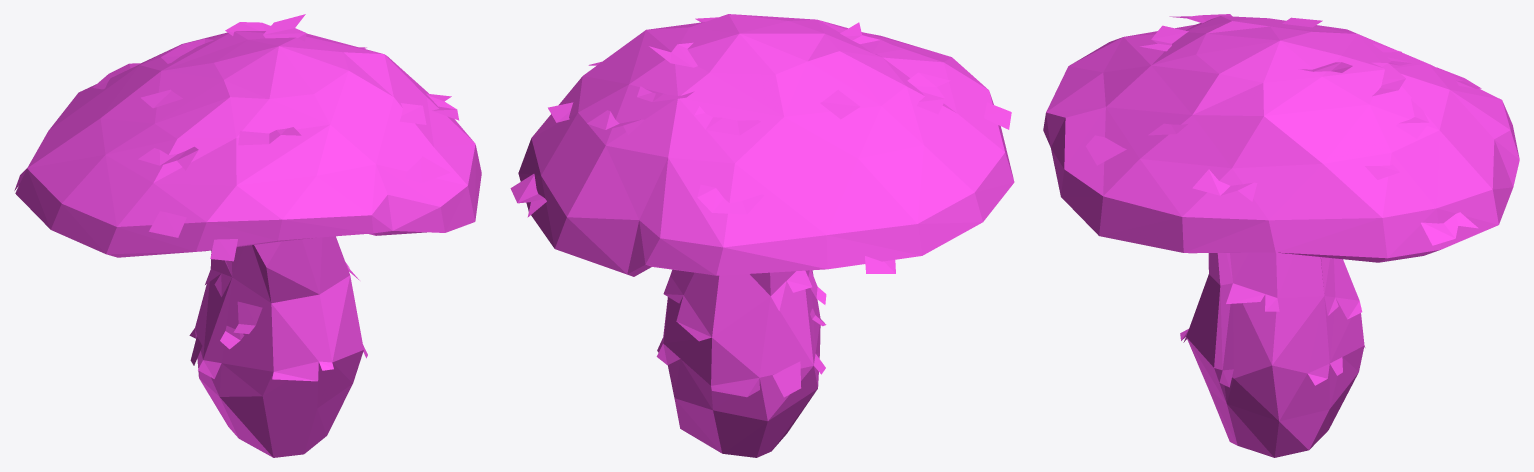
The model's file is SM_Mushroom_Fluffy_Big_B_Fantasy.fbx.
3 views of the same model, side by side, from view 1: azimuth 30°, elevation 25°; view 2: azimuth 150°, elevation 25°; view 3: azimuth 270°, elevation 25° (orthographic). The views are drawn at different scales.
Visible parts, largest first — view 1: SM_Mushroom_Fluffy_Big_B_Fantasy; view 2: SM_Mushroom_Fluffy_Big_B_Fantasy; view 3: SM_Mushroom_Fluffy_Big_B_Fantasy.
Part boxes in pixels (<box>): SM_Mushroom_Fluffy_Big_B_Fantasy: <box>14,14,481,457</box>; SM_Mushroom_Fluffy_Big_B_Fantasy: <box>510,14,1014,457</box>; SM_Mushroom_Fluffy_Big_B_Fantasy: <box>1043,14,1519,457</box>.
Size of the model in its own units: 2.96 by 2.83 by 2.98.
